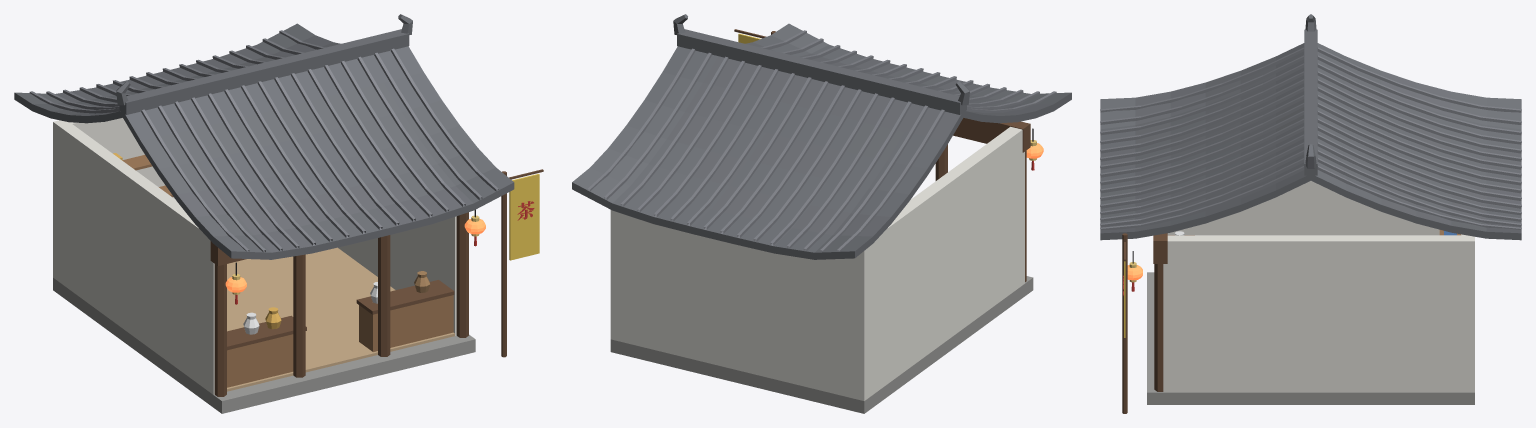
Rendered from shop_tea.glb.
3 views of the same model, side by side, from view 1: azimuth 30°, elevation 25°; view 2: azimuth 150°, elevation 25°; view 3: azimuth 270°, elevation 25° (orthographic). The views are drawn at different scales.
Parts seen in each view (by area): view 1: shop_tea; view 2: shop_tea; view 3: shop_tea.
Boxes of the visible parts, x1,y1,x2,y2 form: shop_tea: (14, 14, 543, 413); shop_tea: (572, 14, 1071, 413); shop_tea: (1100, 14, 1521, 413).
Bounding box in the file's own units: 6.79 × 5.36 × 7.71.
